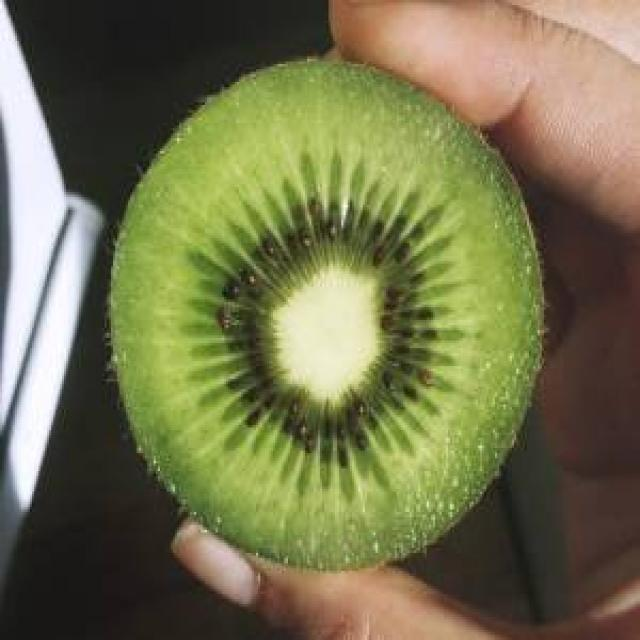kiwi: (107, 59, 550, 566)
